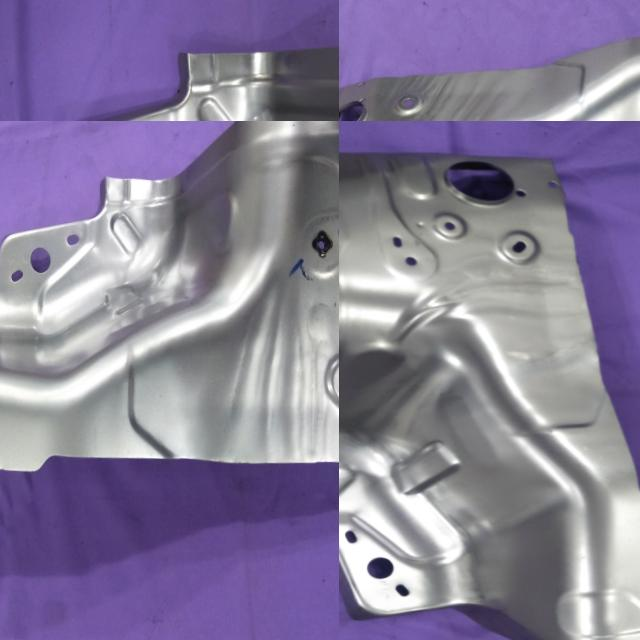Defect: (339, 335, 366, 440)
Healthy: (0, 121, 339, 490), (339, 20, 640, 121), (0, 33, 339, 121)
